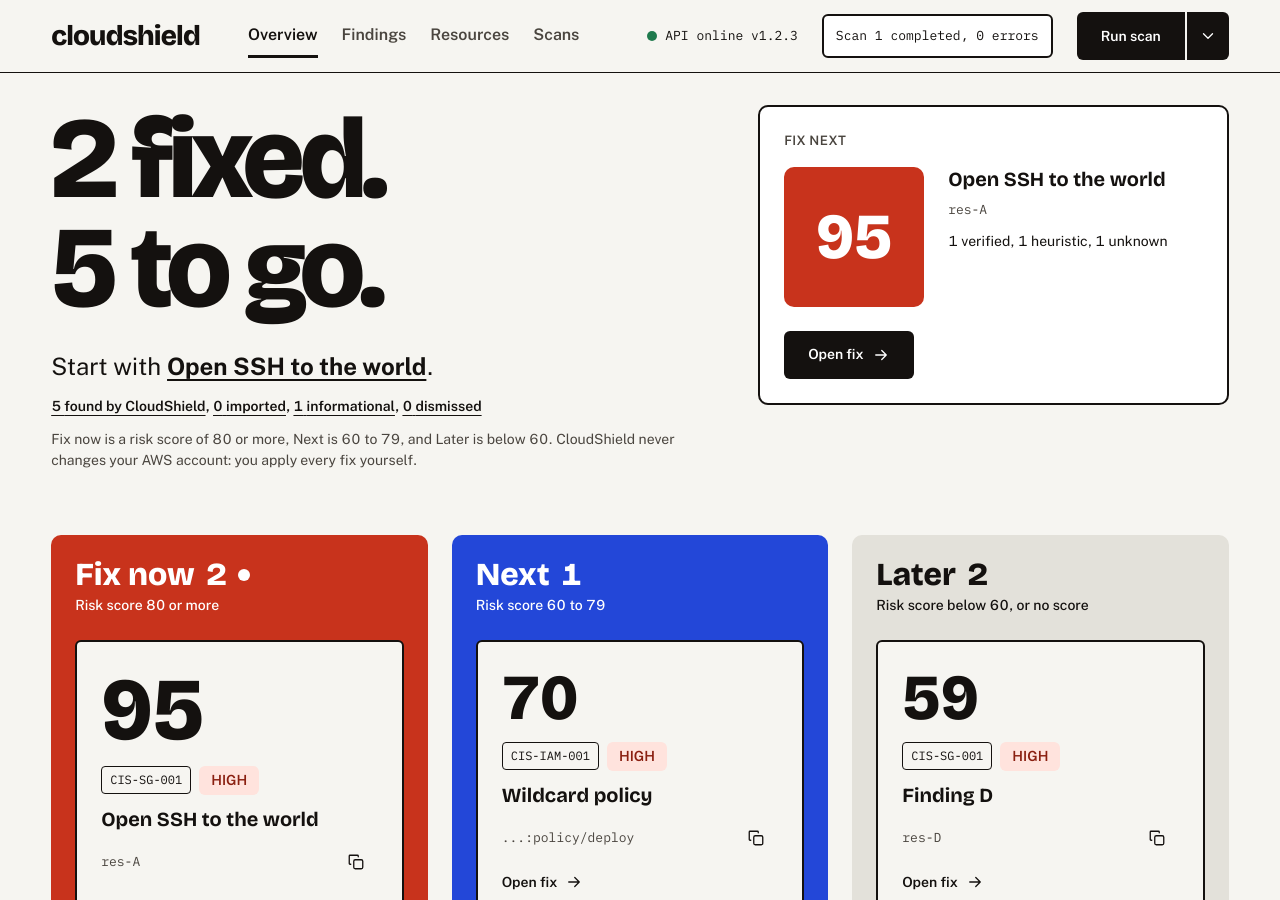
it: Overview: the lanes › says plainly when the clipboard refuses the copy
Click the button named "Copy res-A".
click(356, 862)  # box 334,840 -> 378,884
(page scrolled)
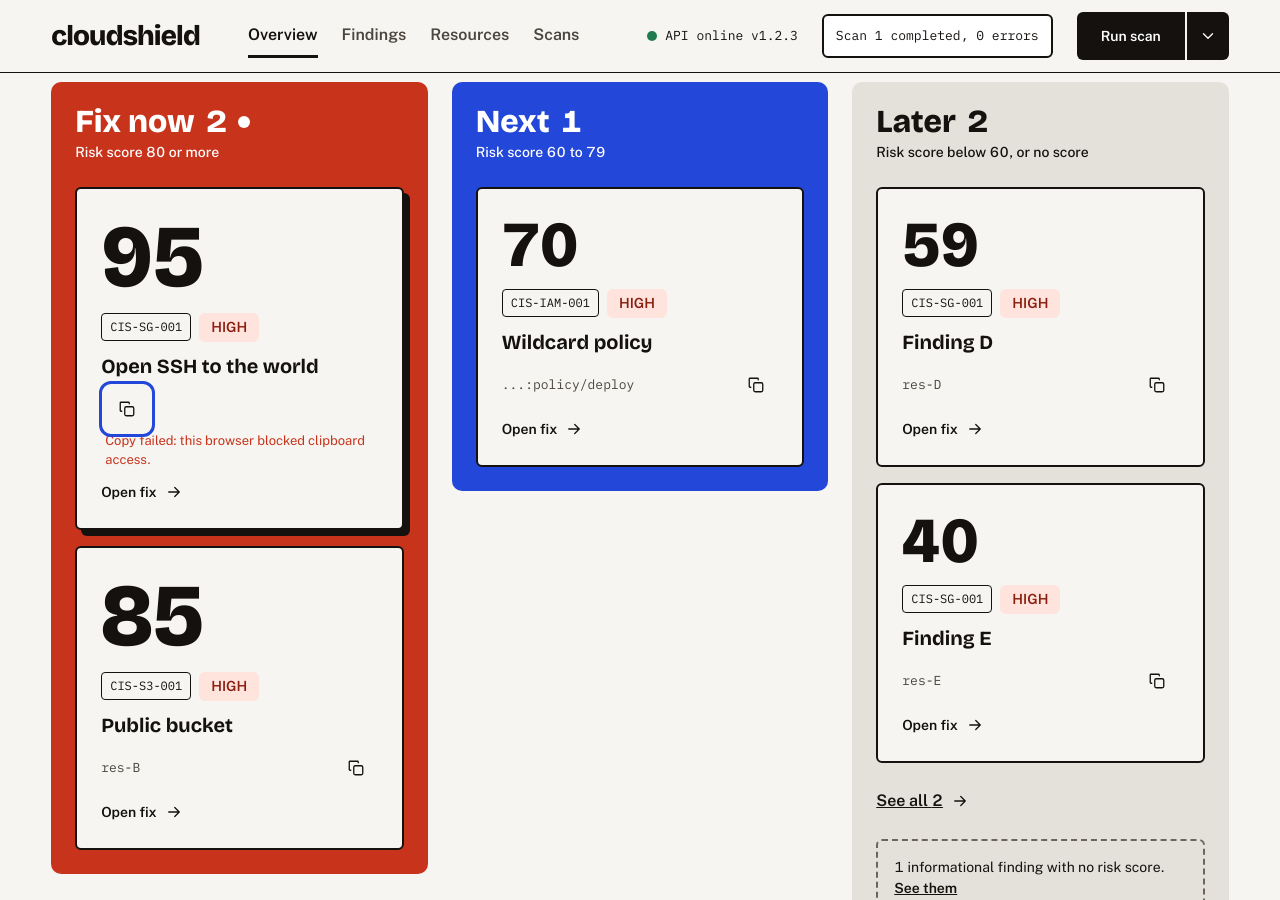
Check: the message "Copy failed: this browser blocked clipboard access." is shown, box 105,431 -> 378,470
